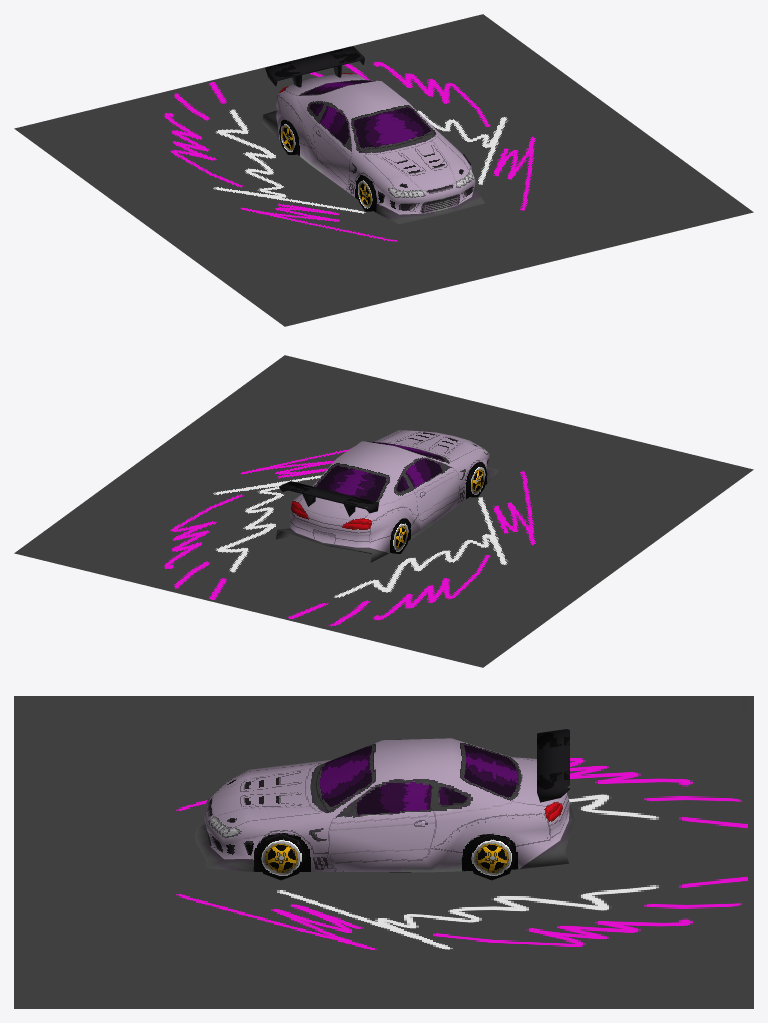
The model's file is low-poly_pixelated_sport_car.glb.
The picture shows the model from 3 angles, top to bottom: view 1: azimuth 30°, elevation 25°; view 2: azimuth 150°, elevation 25°; view 3: azimuth 270°, elevation 25°; orthographic projection. The views are drawn at different scales.
Visible parts, largest first — view 1: Plane.001, Plane; view 2: Plane.001, Plane; view 3: Plane.001, Plane, Cylinder.001, Cylinder.002.
Part boxes in pixels (x1,y1,x2,y2): Plane.001: [14, 14, 753, 326]; Plane: [262, 46, 484, 224]; Plane.001: [14, 355, 753, 667]; Plane: [276, 430, 498, 562]; Plane.001: [14, 696, 753, 1008]; Plane: [194, 728, 574, 872]; Cylinder.001: [256, 833, 305, 880]; Cylinder.002: [466, 834, 516, 880].
Bounding box in the file's own units: 7.86 × 1.08 × 7.86.
2 materials, 2 textured.
